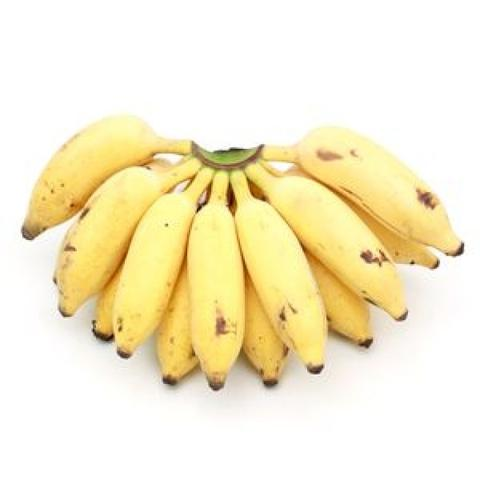banana: (320, 126, 463, 255), (26, 118, 192, 227), (48, 163, 180, 296), (268, 180, 403, 307), (237, 198, 328, 382), (111, 190, 193, 367), (186, 198, 248, 406), (178, 135, 289, 202)
